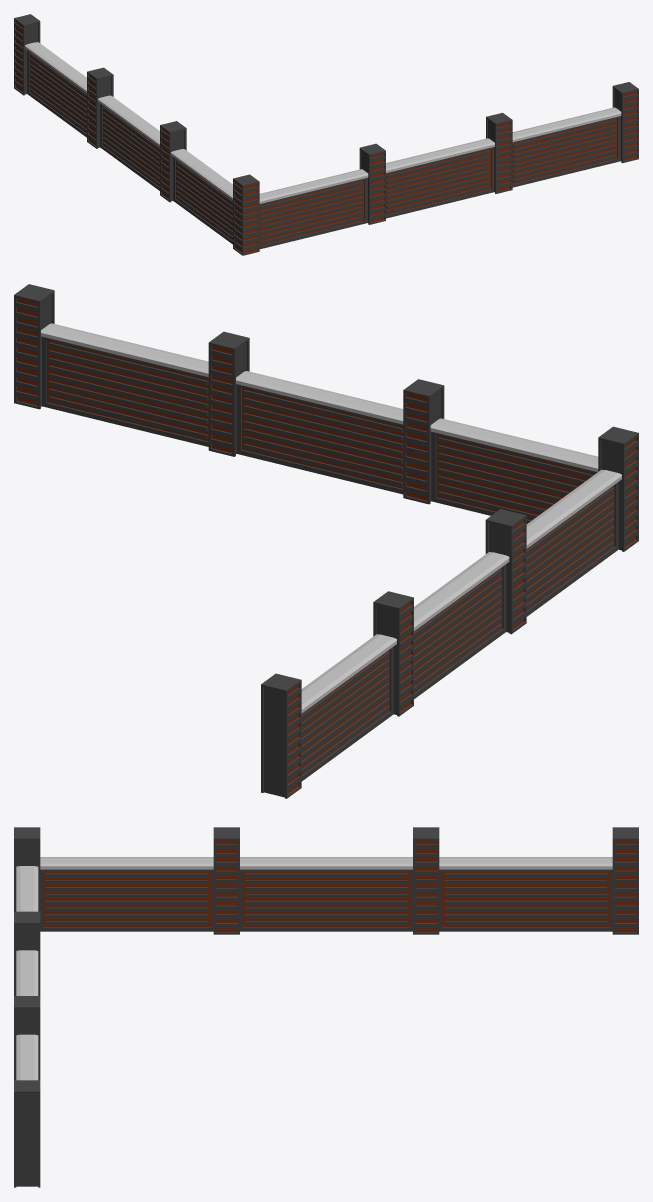
The model's file is Garden_wall_01.FBX.
3 views of the same model, one above another, from view 1: azimuth 30°, elevation 25°; view 2: azimuth 150°, elevation 25°; view 3: azimuth 270°, elevation 25° (orthographic). The views are drawn at different scales.
Parts seen in each view (by area): view 1: Box015, Box007, Box014, Box016, Box017, Box018, Box006, Box002, Box005, Box004, Box012, Box011 (+1 smaller); view 2: Box014, Box015, Box007, Box018, Box016, Box017, Box011, Box004, Box002, Box005, Box013, Box012 (+1 smaller); view 3: Box016, Box018, Box017, Box011, Box012, Box013, Box005, Box004, Box006, Box002, Box015, Box007 (+1 smaller).
Boxes of the visible parts, <box> form: Box015: <box>512,107,621,187</box>; Box007: <box>259,169,368,249</box>; Box014: <box>386,138,494,218</box>; Box016: <box>171,149,232,244</box>; Box017: <box>98,95,159,190</box>; Box018: <box>25,42,86,137</box>; Box006: <box>233,174,259,255</box>; Box002: <box>486,112,512,193</box>; Box005: <box>612,82,638,163</box>; Box004: <box>359,143,385,224</box>; Box012: <box>87,67,113,148</box>; Box011: <box>14,14,40,95</box>; Box014: <box>236,371,403,494</box>; Box015: <box>41,323,208,446</box>; Box007: <box>430,418,598,523</box>; Box018: <box>301,634,396,781</box>; Box016: <box>526,469,621,616</box>; Box017: <box>414,552,509,698</box>; Box011: <box>261,673,301,798</box>; Box004: <box>403,379,444,504</box>; Box002: <box>208,331,249,456</box>; Box005: <box>14,284,54,409</box>; Box013: <box>485,509,526,634</box>; Box012: <box>373,591,413,716</box>; Box016: <box>40,857,213,931</box>; Box018: <box>439,857,612,931</box>; Box017: <box>240,857,412,931</box>; Box011: <box>612,827,638,934</box>; Box012: <box>413,827,439,934</box>; Box013: <box>213,827,239,934</box>; Box005: <box>14,1080,40,1187</box>; Box004: <box>14,911,40,995</box>; Box006: <box>14,827,40,911</box>; Box002: <box>14,996,40,1080</box>; Box015: <box>16,1034,38,1080</box>; Box007: <box>16,866,38,911</box>.
Size of the model in its own units: 708 by 120 by 708.
